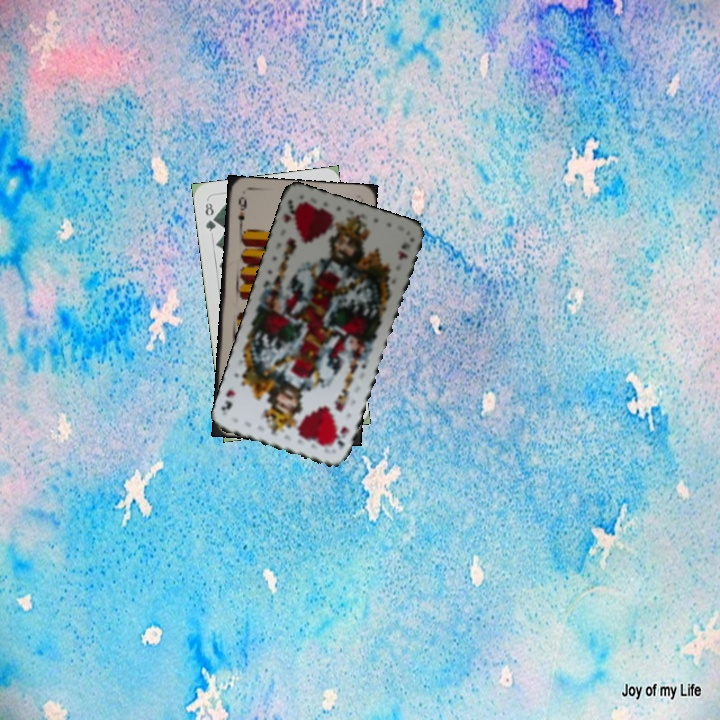E9: (234, 192, 249, 232)
G8: (201, 198, 219, 234)
HK: (280, 196, 304, 227), (333, 423, 351, 453)
